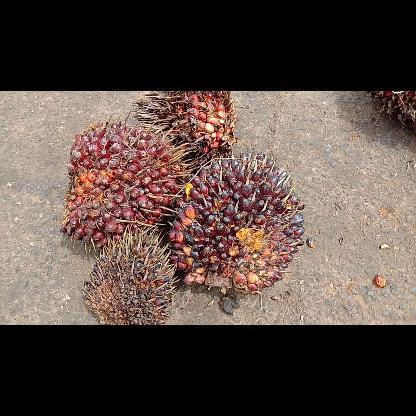Kurang masak: (166, 150, 304, 294)
TBS abnormal: (80, 230, 180, 324)
TBS masak: (57, 120, 183, 252)
Terlalu masak: (130, 92, 237, 168)
